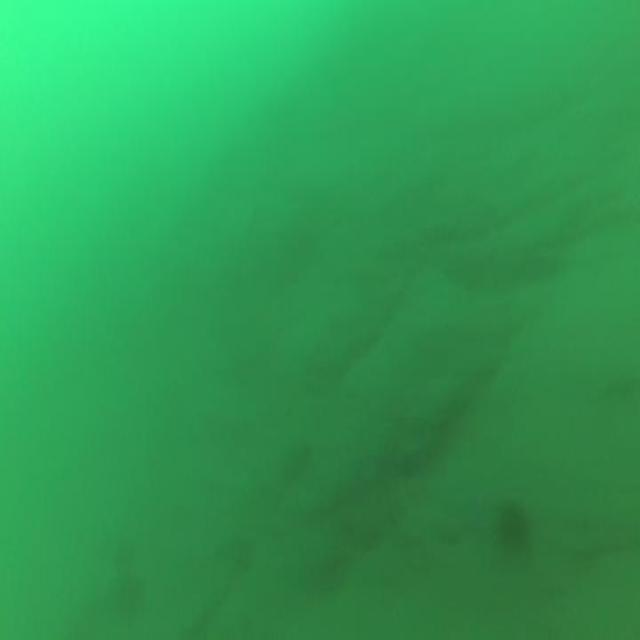echinus: (496, 492, 530, 556)
